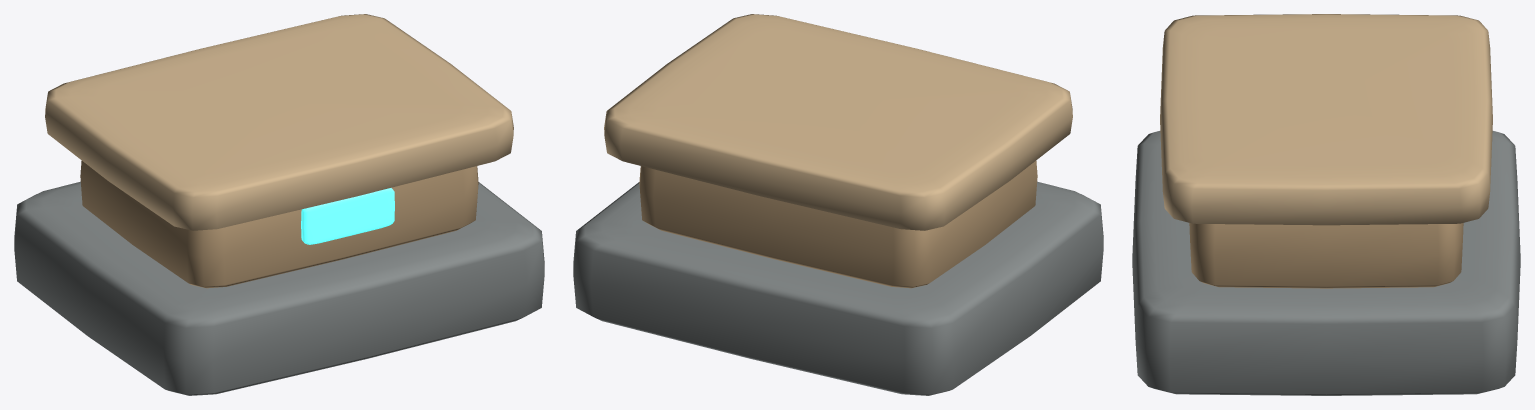
Rendered from altar.fbx.
3 views of the same model, side by side, from view 1: azimuth 30°, elevation 25°; view 2: azimuth 150°, elevation 25°; view 3: azimuth 270°, elevation 25° (orthographic). The views are drawn at different scales.
Visible parts, largest first — view 1: altar_mesh; view 2: altar_mesh; view 3: altar_mesh.
Boxes of the visible parts, left/top/right/bottom form: altar_mesh: left=14, top=14, right=544, bottom=395; altar_mesh: left=573, top=14, right=1103, bottom=395; altar_mesh: left=1132, top=14, right=1520, bottom=395.
Bounding box in the file's own units: 0.85 × 0.415 × 0.7.
